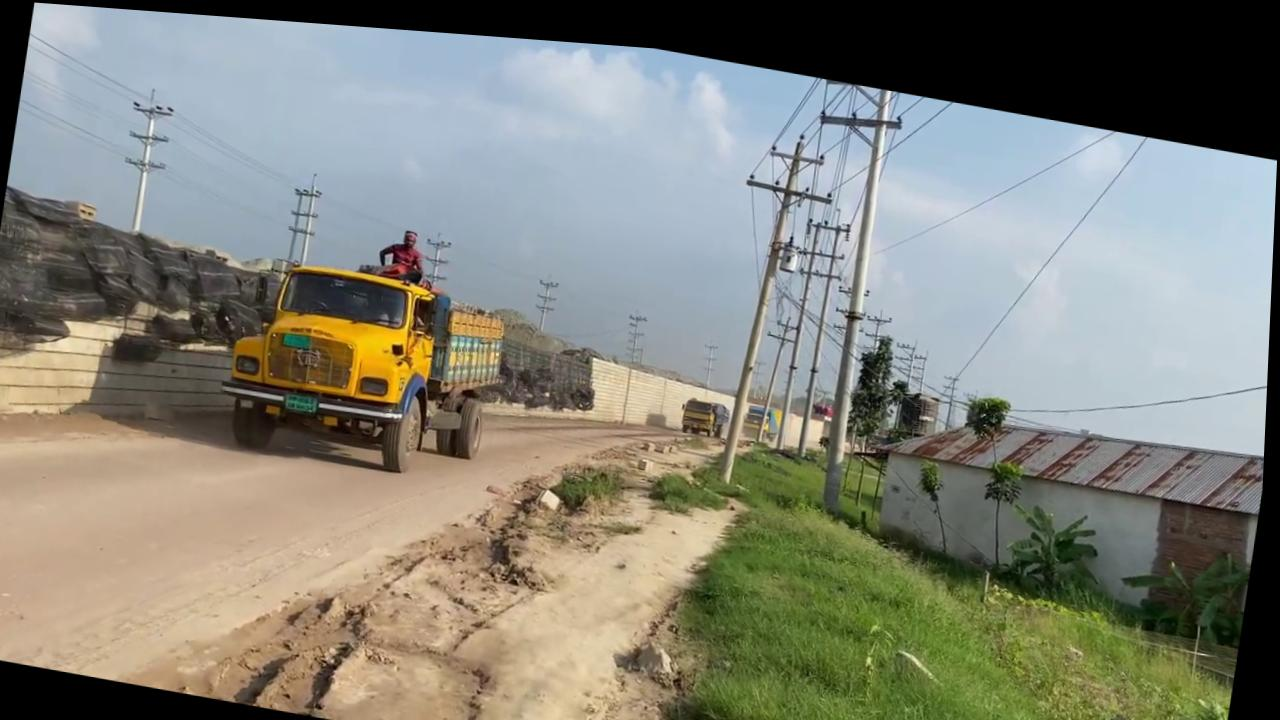Garbage: (0, 181, 293, 384)
Muddy road: (0, 300, 753, 720)
Pole: (765, 63, 908, 502), (705, 110, 841, 484), (817, 71, 903, 504)
Traffic-sign: (1004, 481, 1110, 585), (976, 438, 1029, 556), (963, 373, 1015, 429)
Tree: (213, 237, 516, 483), (681, 384, 733, 428)
